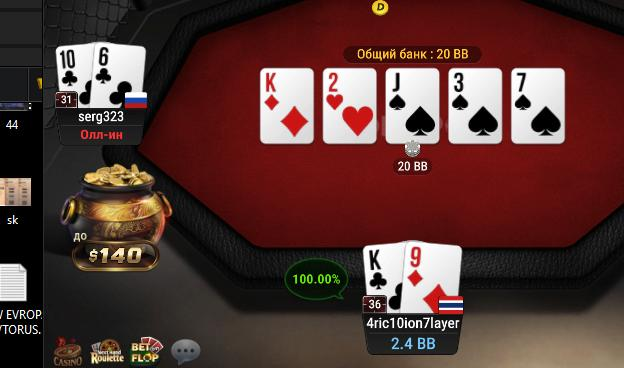10c: (55, 44, 92, 106)
2h: (323, 69, 377, 143)
3s: (448, 68, 502, 144)
6c: (93, 42, 145, 108)
7s: (512, 69, 565, 142)
9d: (404, 241, 462, 314)
Js: (386, 69, 438, 144)
Kc: (362, 240, 403, 314)
Kd: (261, 68, 314, 144)
